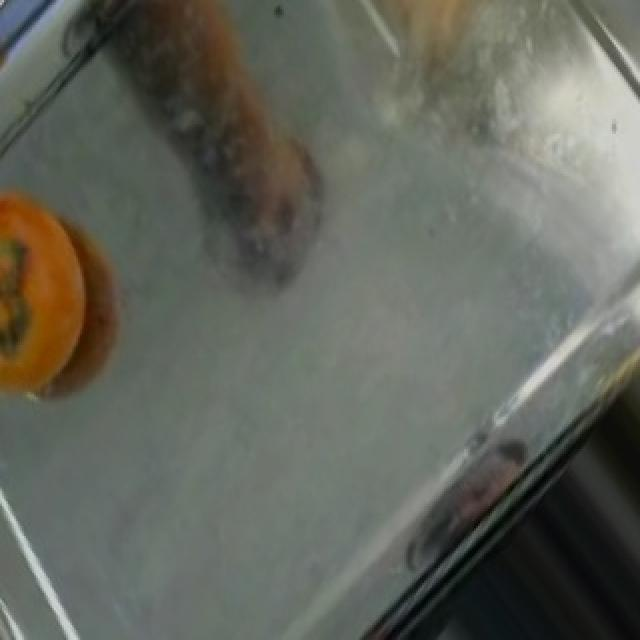Fruit: (0, 174, 110, 426)
